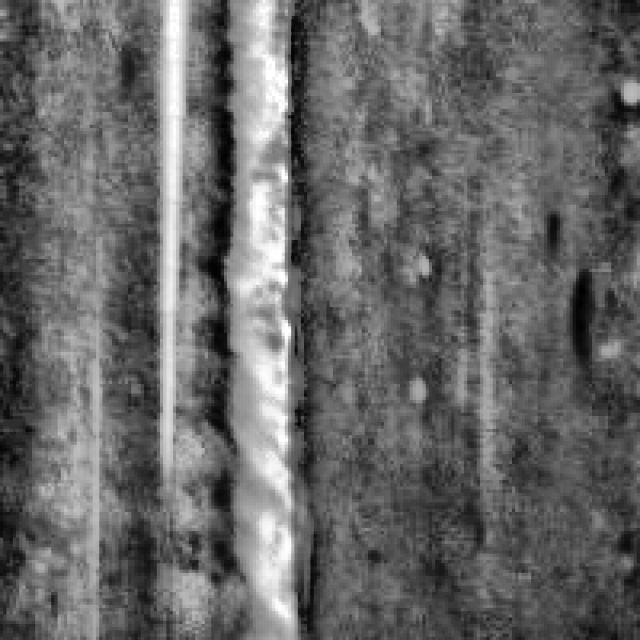Inclusion: (208, 0, 301, 634), (147, 0, 189, 477)
Patches: (560, 259, 598, 352)
